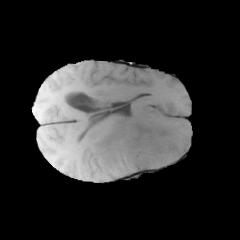glioma: (90, 96, 188, 173)
